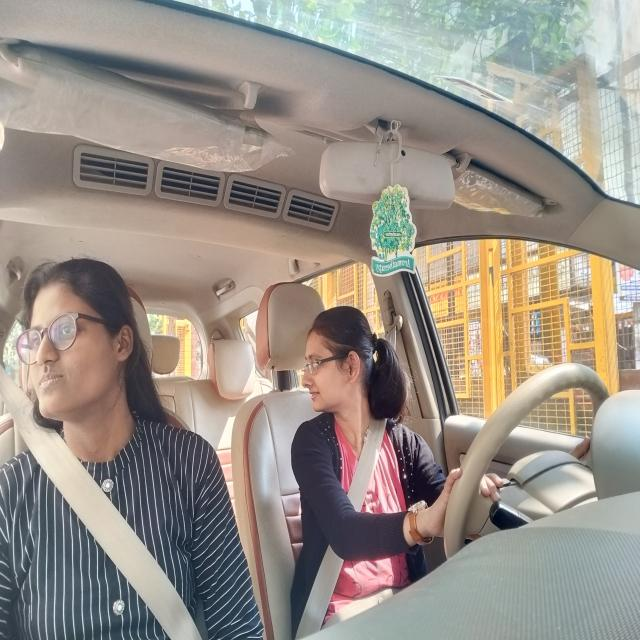LeftRight: (288, 286, 411, 452)
person: (15, 250, 157, 480)
